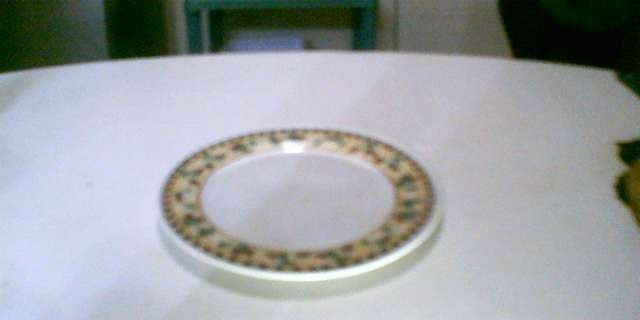empty_plate: (145, 118, 446, 289)
